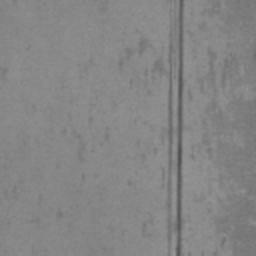Scratches: (166, 0, 186, 256)
